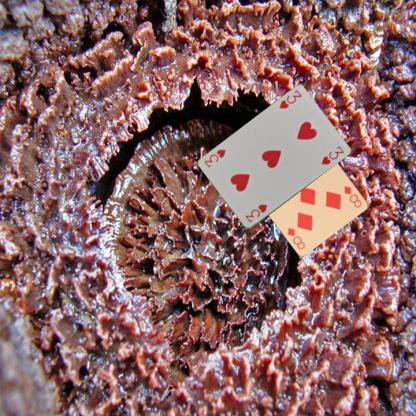3h: (277, 87, 303, 110), (242, 202, 268, 224)
8d: (341, 183, 363, 209)
